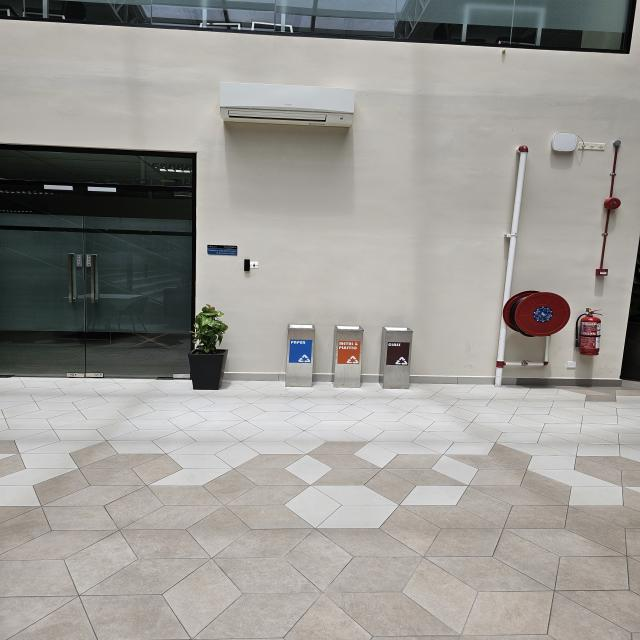door: (0, 145, 188, 378)
footpath: (4, 389, 639, 640)
obstacle: (496, 286, 604, 373), (191, 306, 226, 391), (379, 322, 414, 388), (284, 321, 314, 387), (334, 325, 363, 391)
